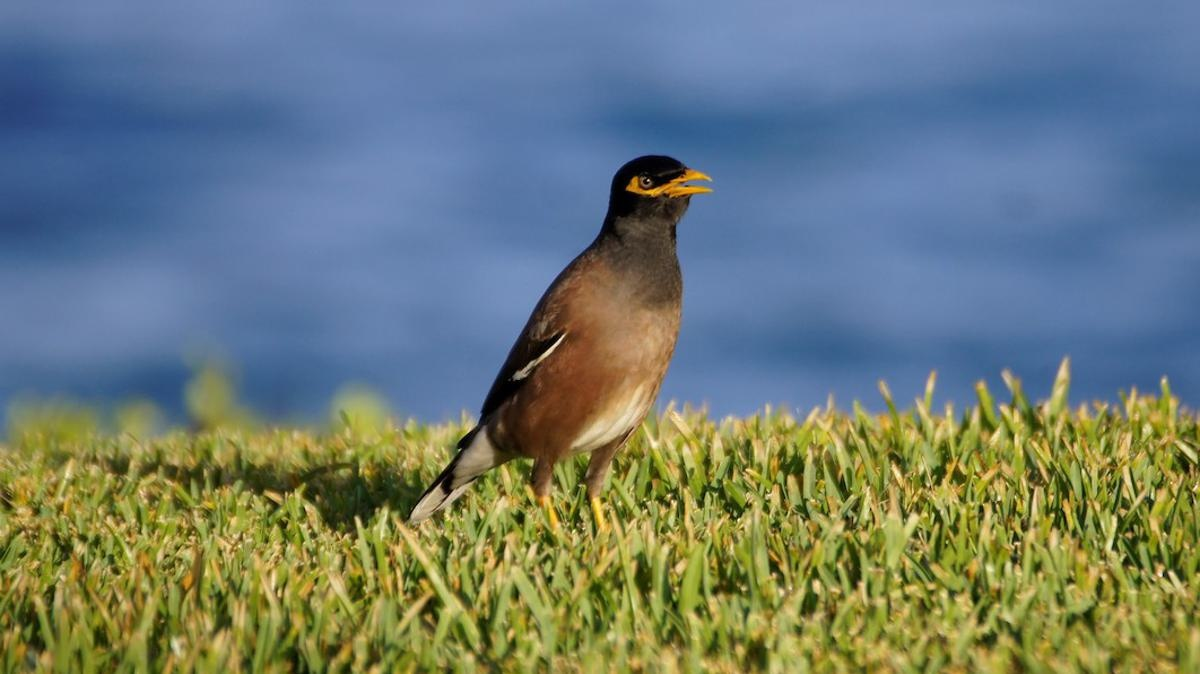myna: (375, 147, 790, 540)
